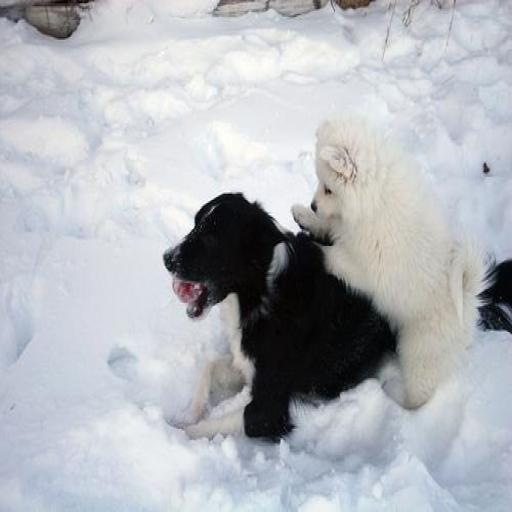dog_face: (159, 198, 256, 334), (304, 125, 371, 230)
